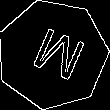M_SW: (21, 22, 85, 87)
